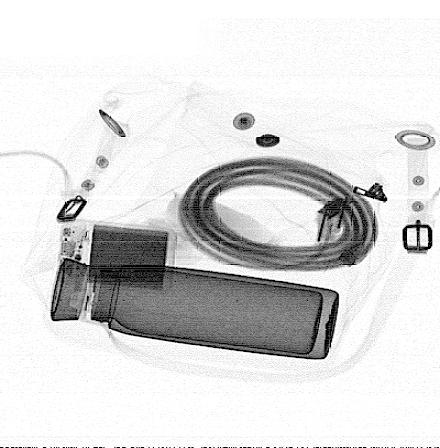Powerbank: (56, 216, 178, 294)
